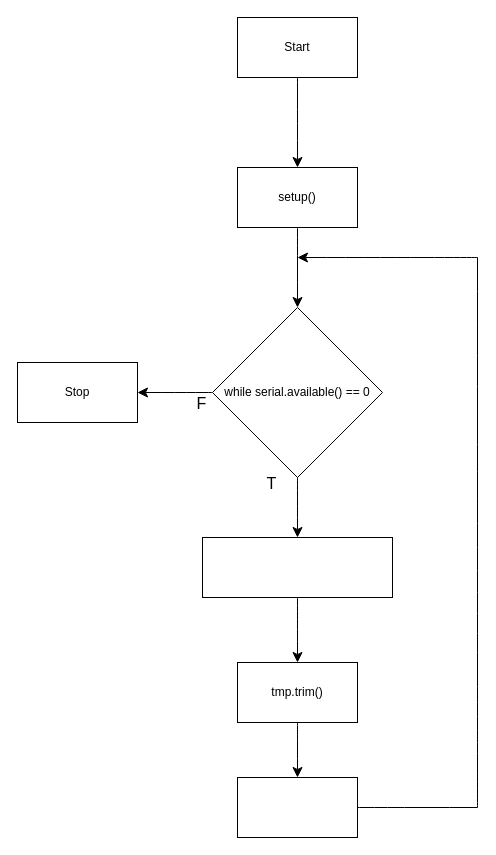
Some shapes in this 496 by 855 pixel diagram are drawn without their labels. Here are the shapes that lost their labels. From the top down, the centre of each, then its label:
the point at 297,567: tmp = Serial.readStringUntil('\n')
the point at 297,807: Serial.println(tmp)
